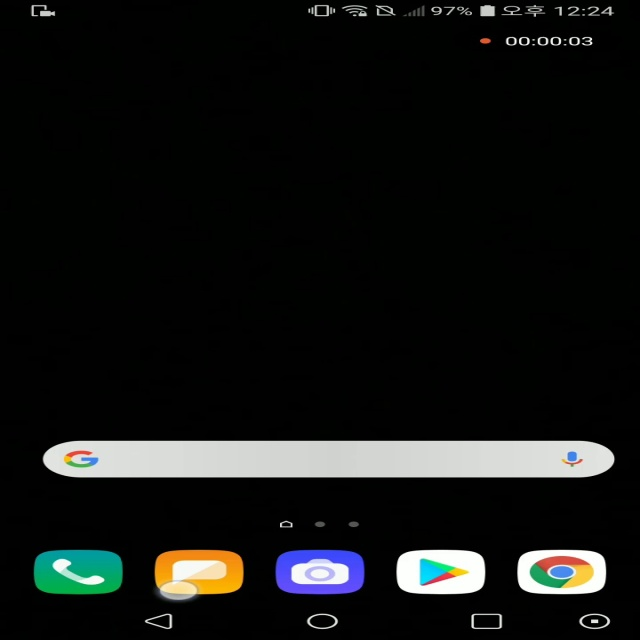Cursor: (156, 580, 200, 602)
